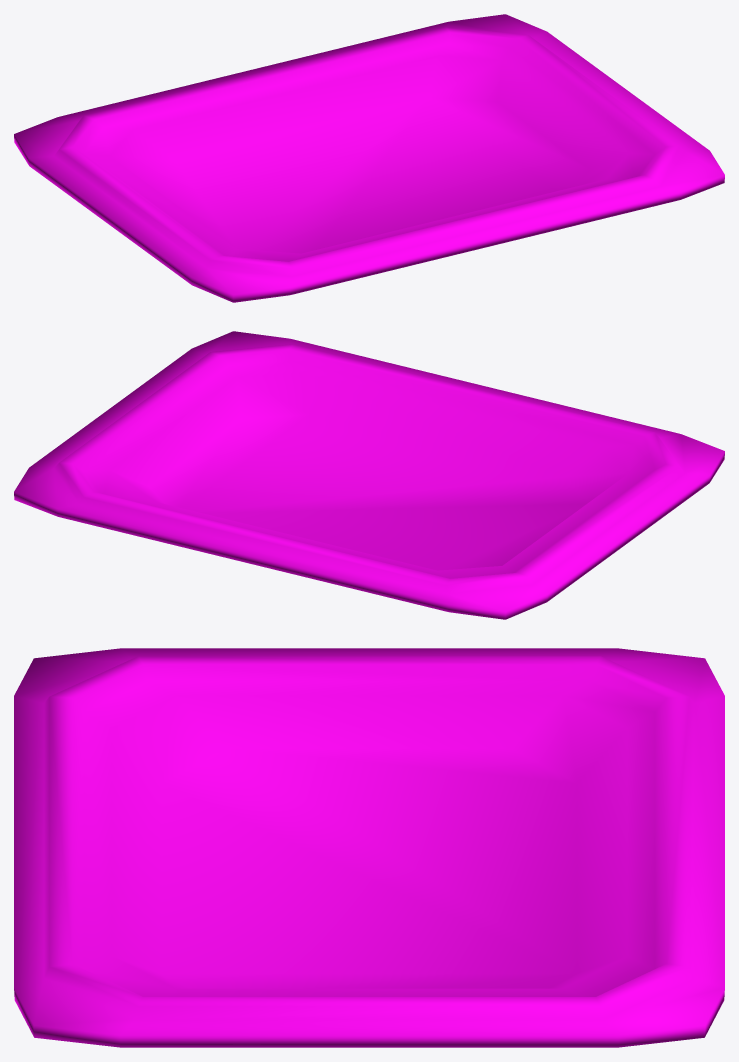
File: package 01_meshCollider.fbx
3 views of the same model, one above another, from view 1: azimuth 30°, elevation 25°; view 2: azimuth 150°, elevation 25°; view 3: azimuth 270°, elevation 25° (orthographic). The views are drawn at different scales.
Visible parts, largest first — view 1: foods_package_base_1_meshCollider; view 2: foods_package_base_1_meshCollider; view 3: foods_package_base_1_meshCollider.
Boxes of the visible parts, left/top/right/bottom form: foods_package_base_1_meshCollider: left=14, top=14, right=724, bottom=302; foods_package_base_1_meshCollider: left=14, top=331, right=724, bottom=619; foods_package_base_1_meshCollider: left=14, top=648, right=724, bottom=1047.
Size of the model in its own units: 33.57 by 2.43 by 26.07.
